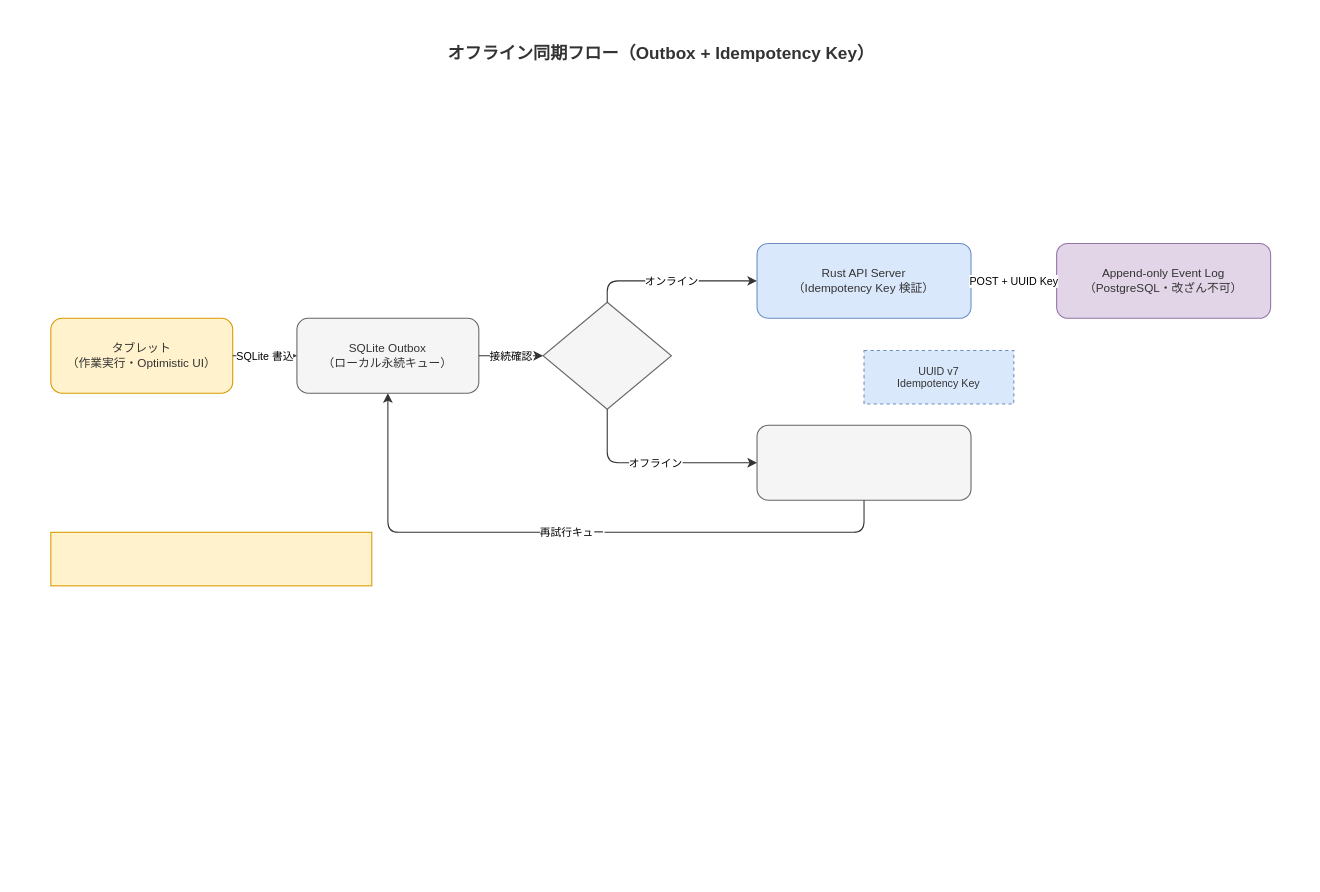
Some shapes in this 1320 by 892 pixel diagram are drawn without their labels. Here are the shapes that lost their labels. From the top down, the centre of each, then its label:
At point (606, 355): "LAN 接続?".
At point (863, 462): "ローカル保存継続 （オフライン時キュー蓄積）".
At point (211, 558): "ALCOA+ Contemporaneous: 「記録済み(未同期)」状態を監査画面に表示".
